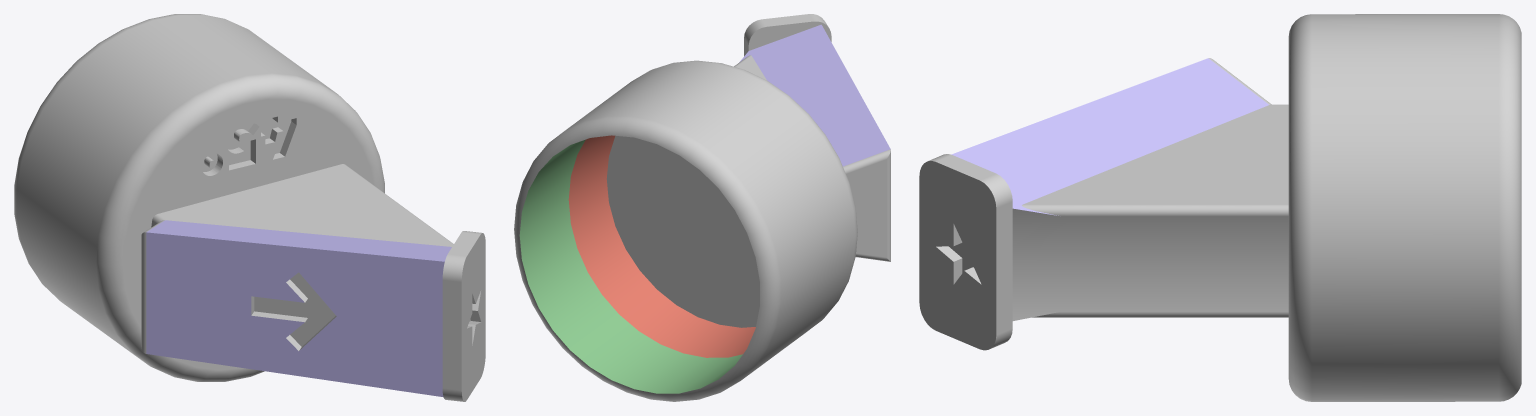
File: 45_static.glb
3 views of the same model, side by side, from view 1: azimuth 30°, elevation 25°; view 2: azimuth 150°, elevation 25°; view 3: azimuth 270°, elevation 25° (orthographic). The views are drawn at different scales.
Parts seen in each view (by area): view 1: Body1; view 2: Body1; view 3: Body1.
Boxes of the visible parts, x1,y1,x2,y2 form: Body1: (14, 14, 485, 401); Body1: (514, 14, 890, 401); Body1: (919, 14, 1521, 401).
Size of the model in its own units: 2.5 by 2.5 by 3.88.
